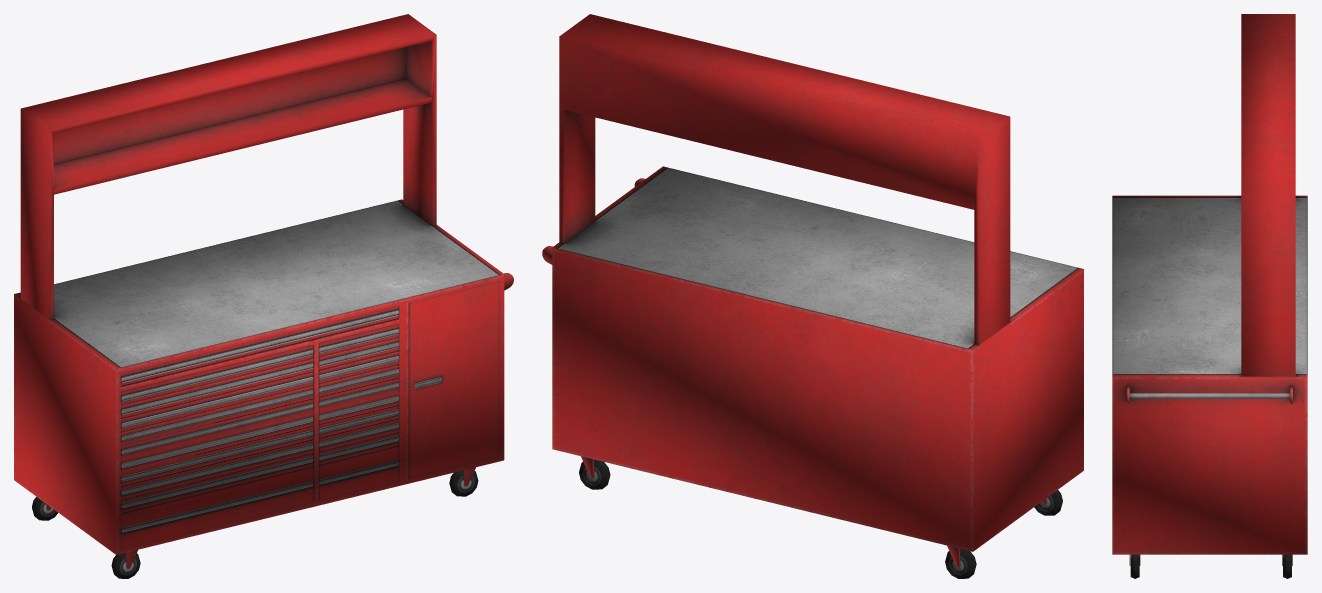
File: mod_tabel.fbx
The picture shows the model from 3 angles, left to right: view 1: azimuth 30°, elevation 25°; view 2: azimuth 150°, elevation 25°; view 3: azimuth 270°, elevation 25°; orthographic projection. The views are drawn at different scales.
Visible parts, largest first — view 1: Toolbox_low; view 2: Toolbox_low; view 3: Toolbox_low.
Part boxes in pixels (x1,y1,x2,y2): Toolbox_low: [14, 14, 513, 578]; Toolbox_low: [542, 14, 1083, 578]; Toolbox_low: [1112, 14, 1307, 578].
Bounding box in the file's own units: 167 × 163 × 73.04.
